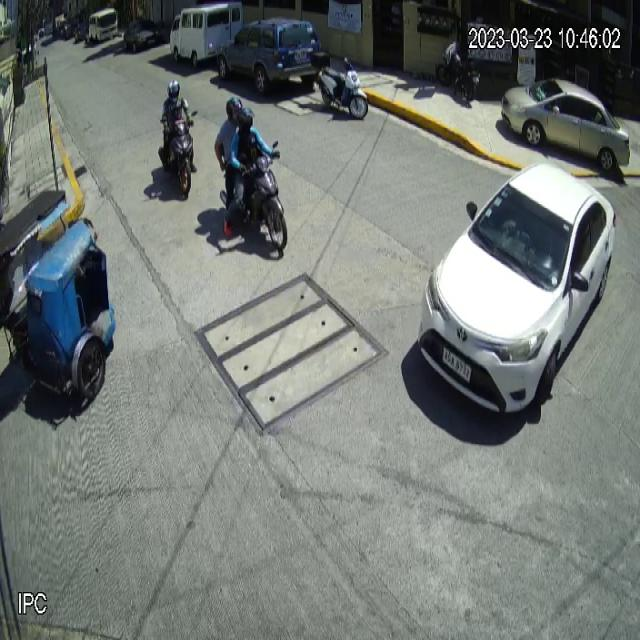Car: (414, 161, 616, 420), (499, 75, 632, 172), (216, 18, 320, 97)
Motorcycle: (310, 51, 369, 120)
Tricycle: (0, 183, 117, 406)
Van: (169, 0, 244, 69)
